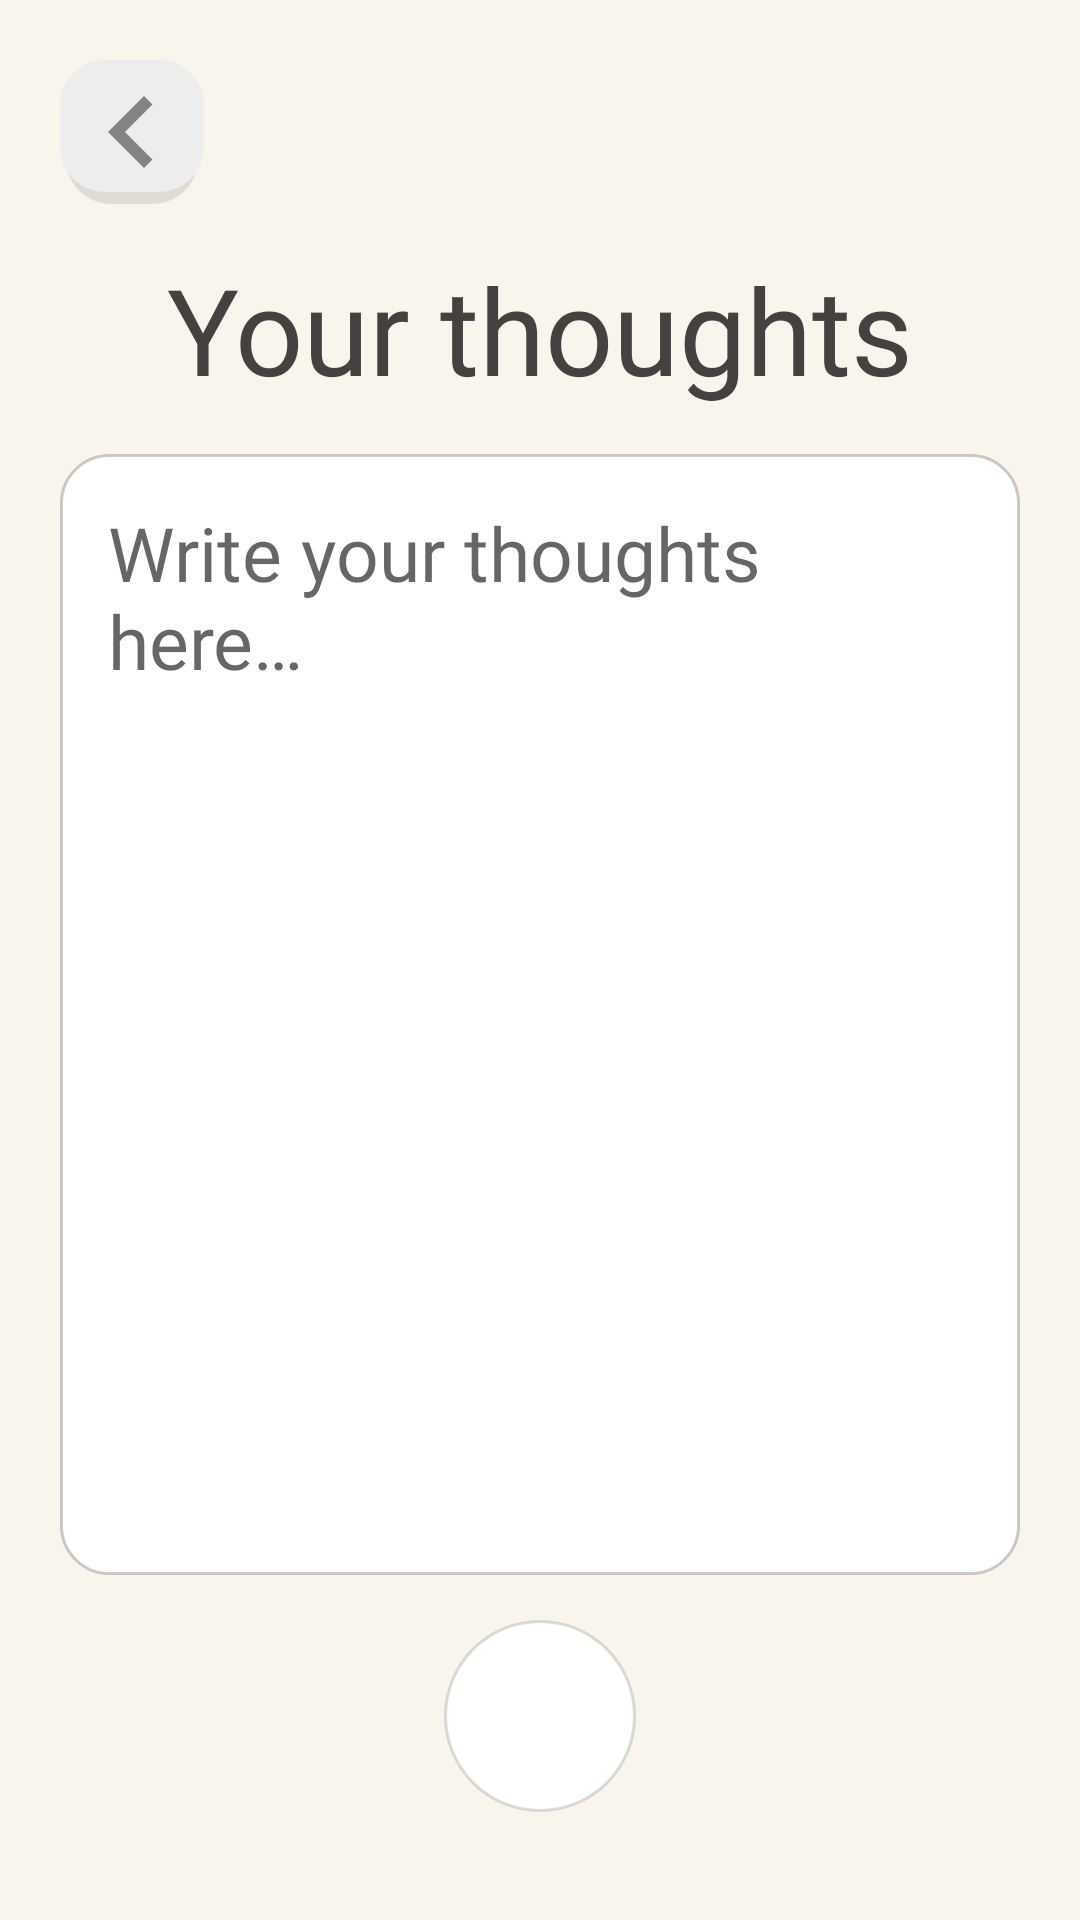

Where to tap for icons on this 1080x1920 app screen, as (x=x, y=y):
Back: (x=132, y=132)
